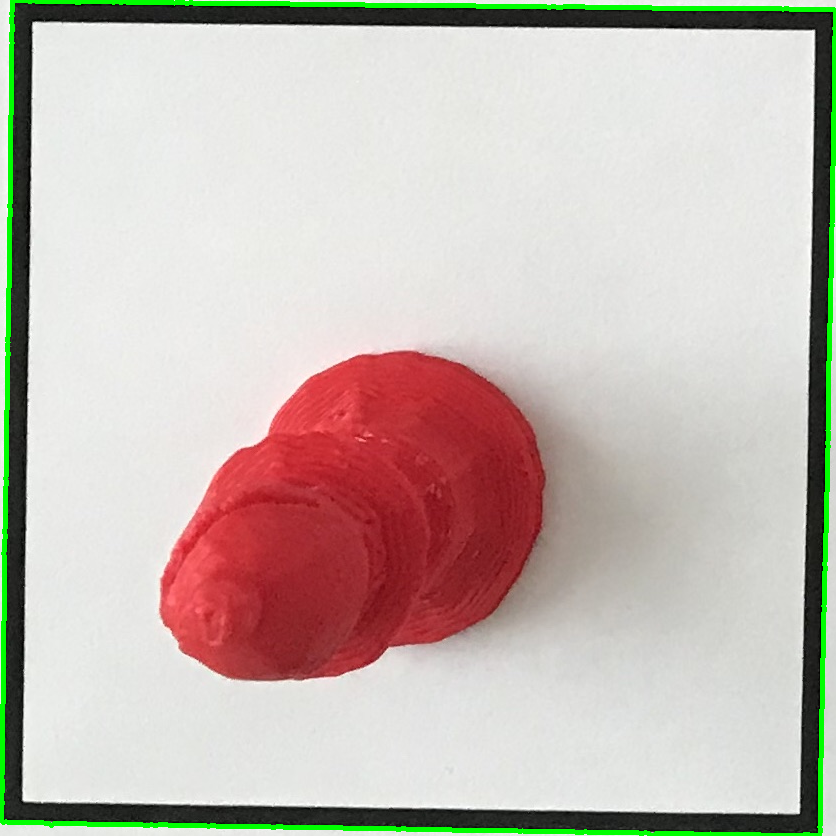Red Bishop: (115, 324, 559, 710)
